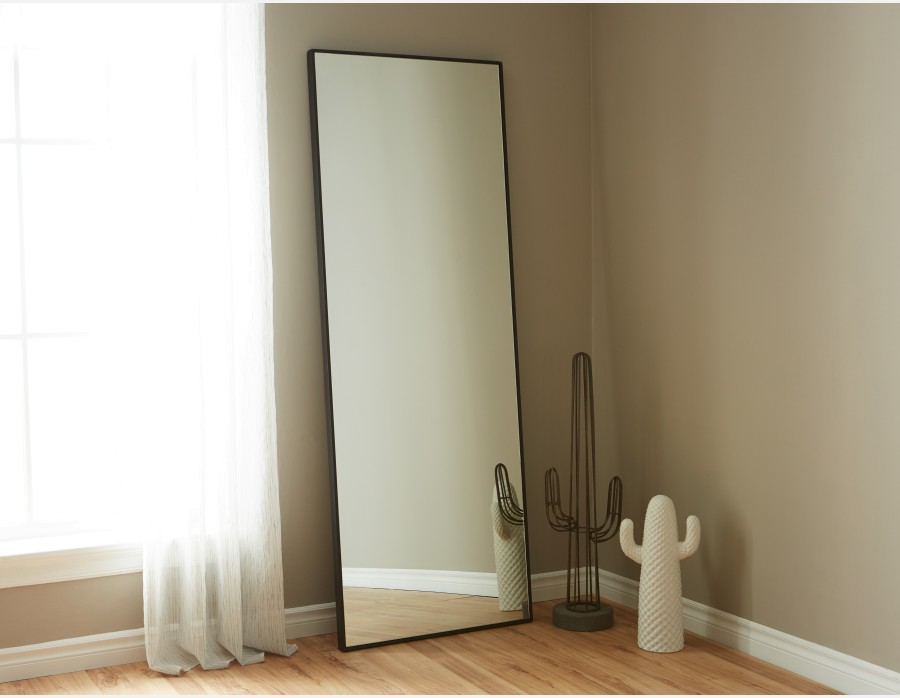Nonrec_Glass: (294, 36, 549, 649)
